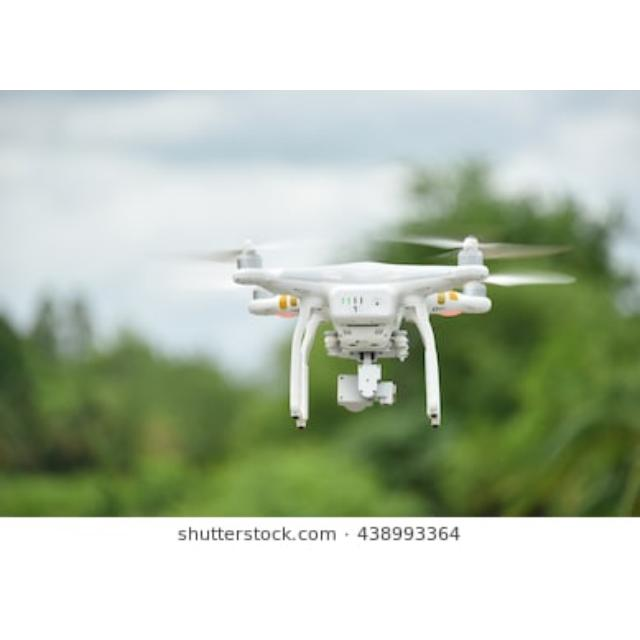Drones: (202, 225, 532, 431)
